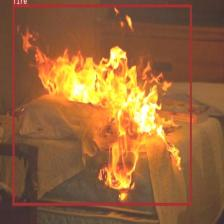fire: (12, 4, 192, 205)
